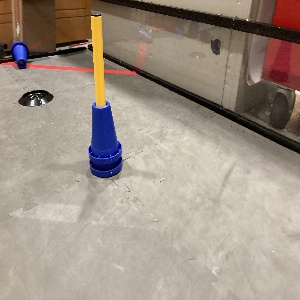Blue_1: (11, 41, 29, 69)
Blue_2: (87, 99, 122, 177)
